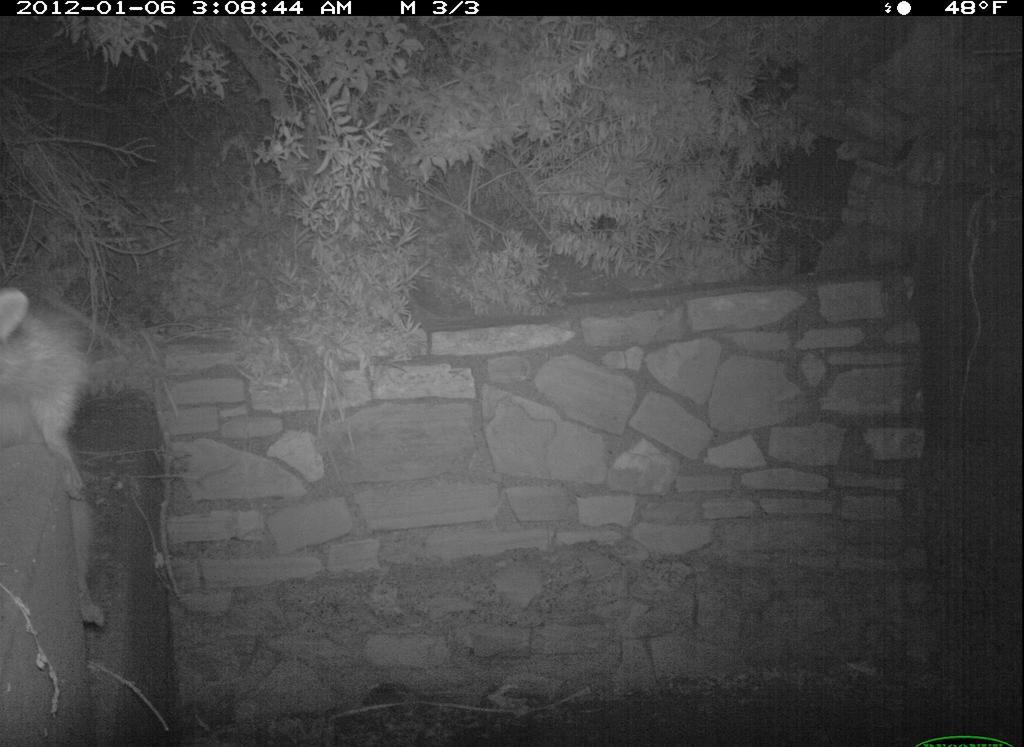raccoon: (4, 268, 113, 644)
